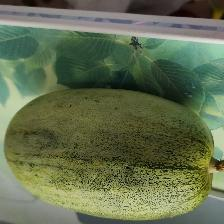gua: (15, 103, 218, 203)
